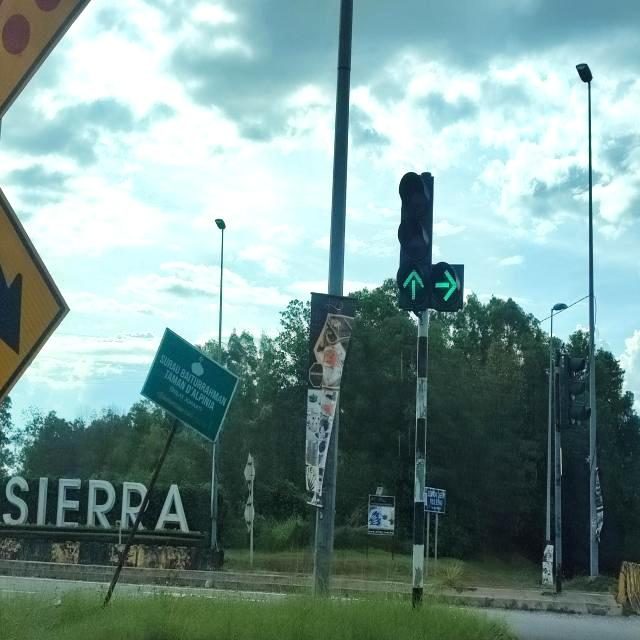Green: (397, 171, 434, 312), (430, 172, 464, 312)
